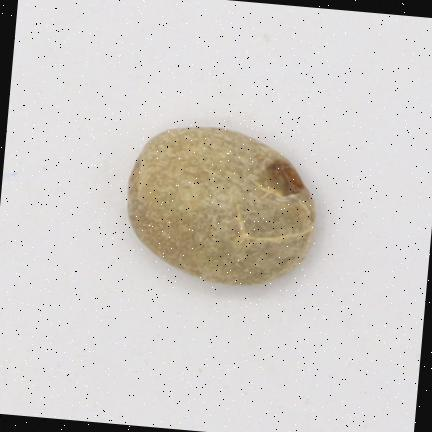cut: (127, 127, 315, 284)
